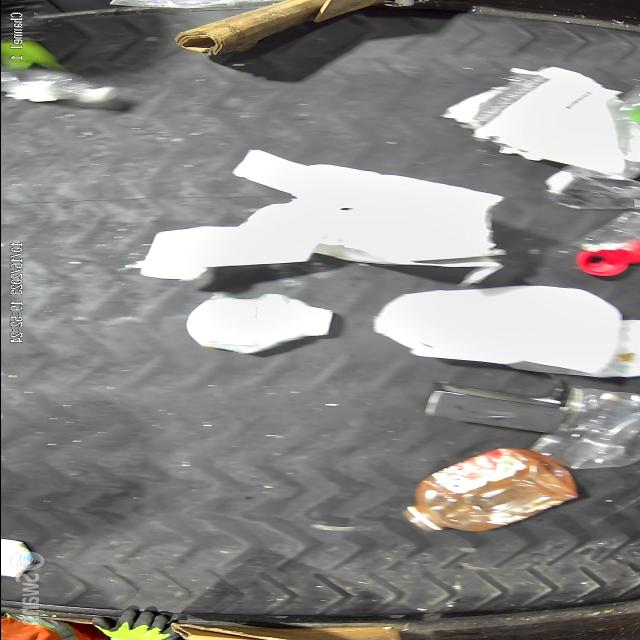milk_jug: (369, 287, 622, 380), (184, 289, 341, 355)
plastic_bottle: (396, 451, 575, 530), (3, 67, 126, 109)
